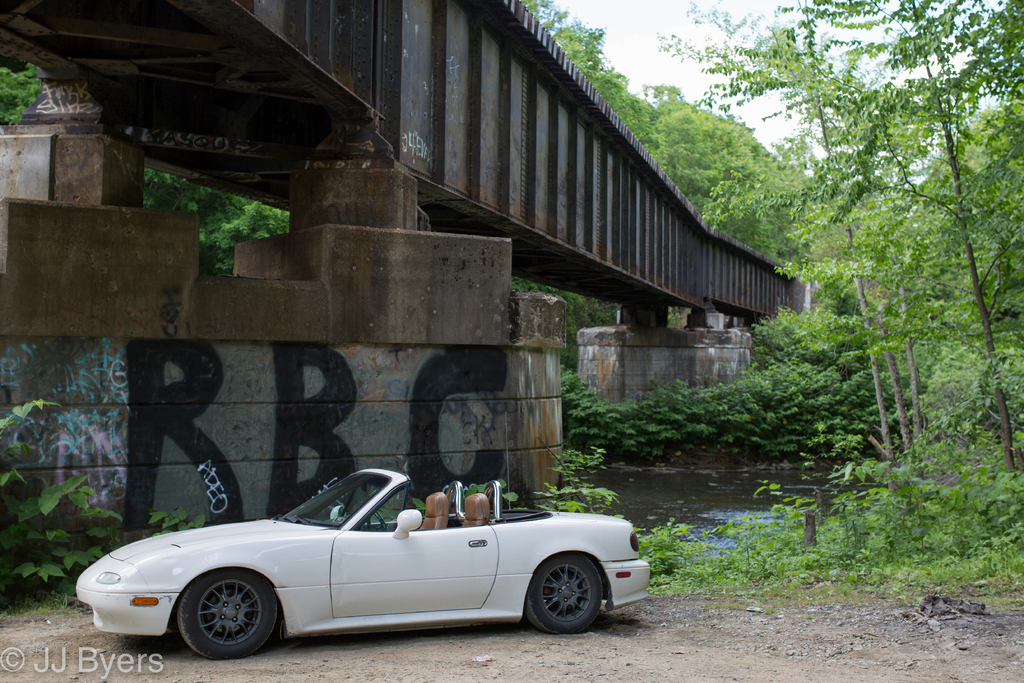Car: (75, 412, 652, 660)
